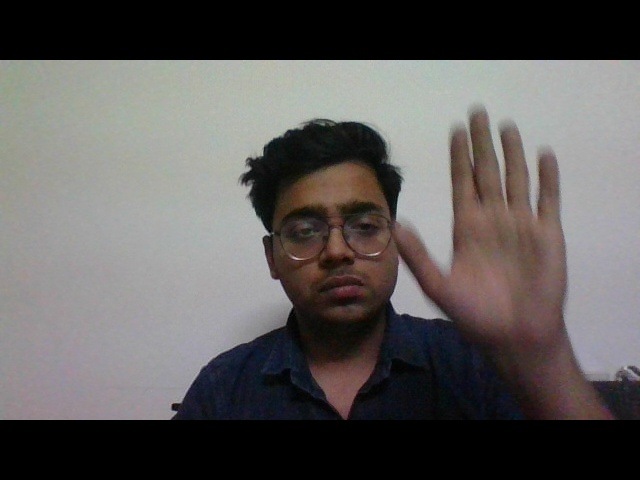Hello: (383, 100, 609, 385)
